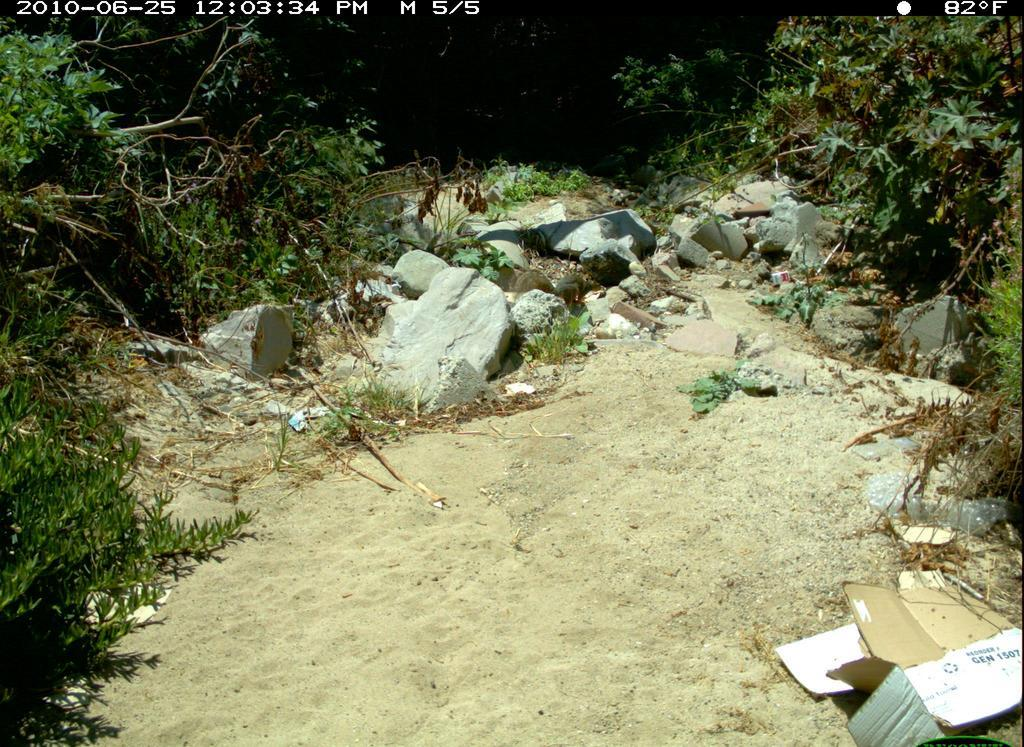squirrel: (505, 271, 601, 313)
